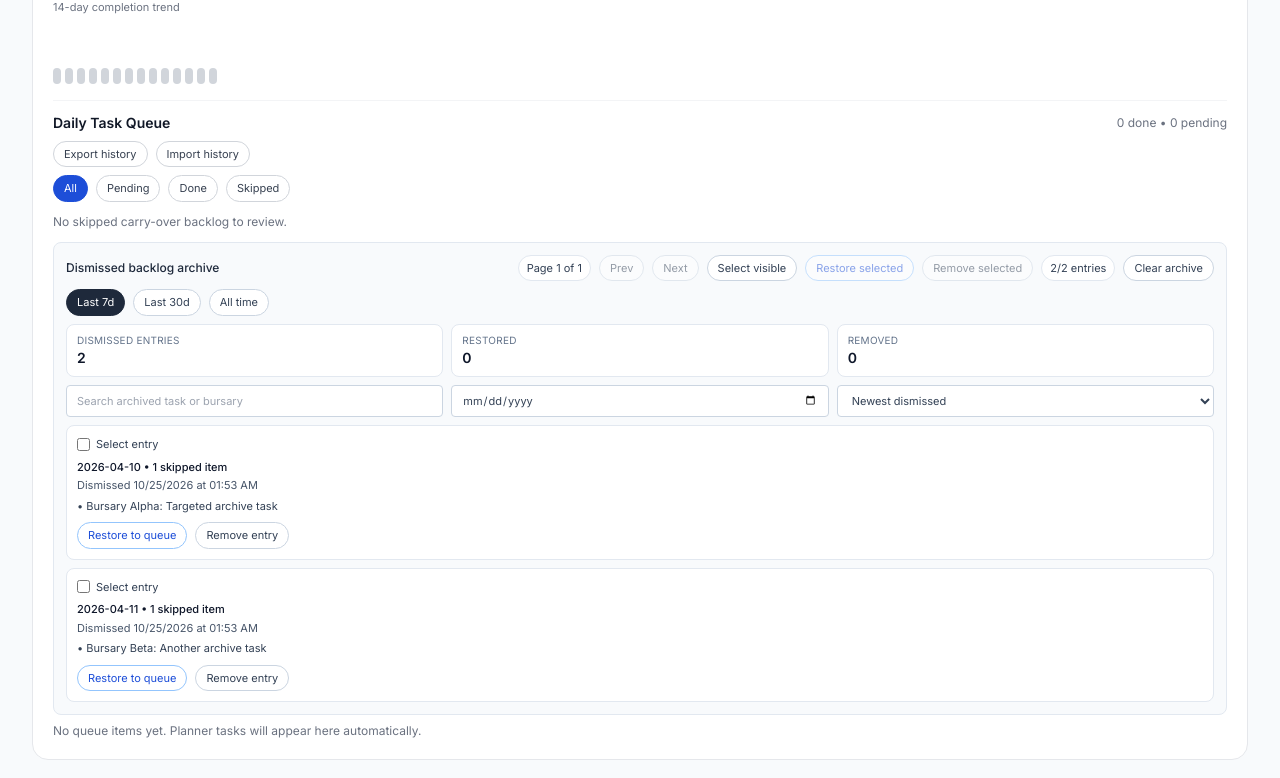
Test case: ApplicationTracker phase 2.5 interactions › filters dismissed backlog archive by task text and source date
The width and height of the screenshot is (1280, 778).
(page scrolled)
Step 1. Type "Targeted" into the field named "Archive search" → (255, 401), box [66,384,443,417]
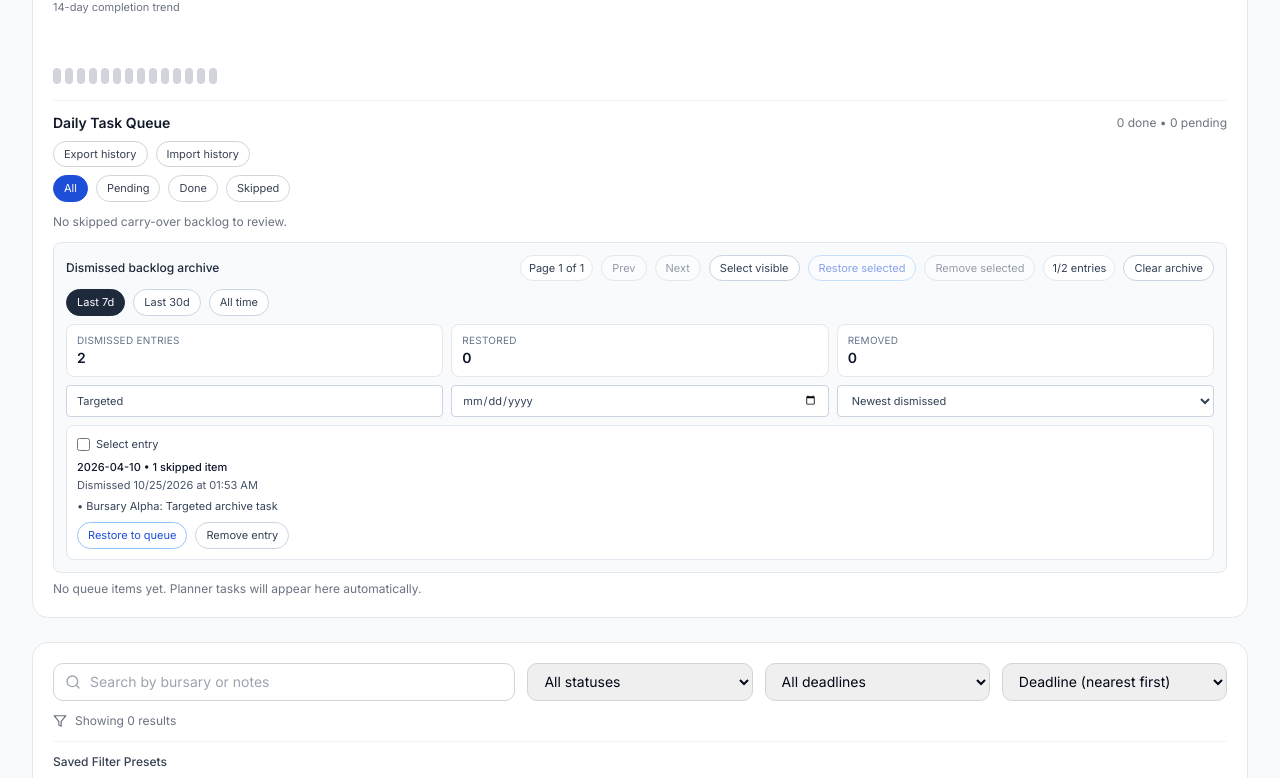
Expected: the list item "• Bursary Alpha: Targeted archive task" is shown, [77,498,278,512]
Expected: the list item "Another archive task" is gone
Step 2. Clear the field named "Archive search" → (255, 401), box [66,384,443,417]
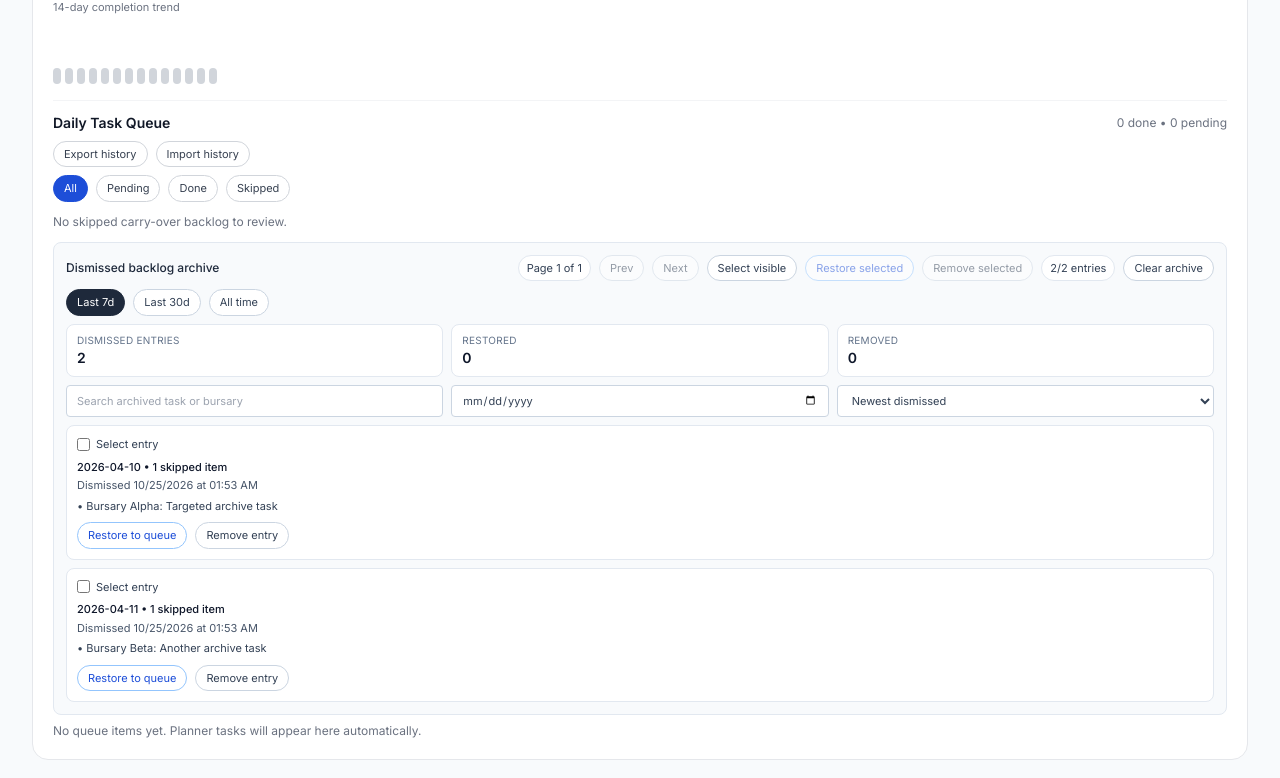
Step 3. Type "2026-04-11" into the date field named "Archive source date" → (640, 401), box [451,384,829,417]
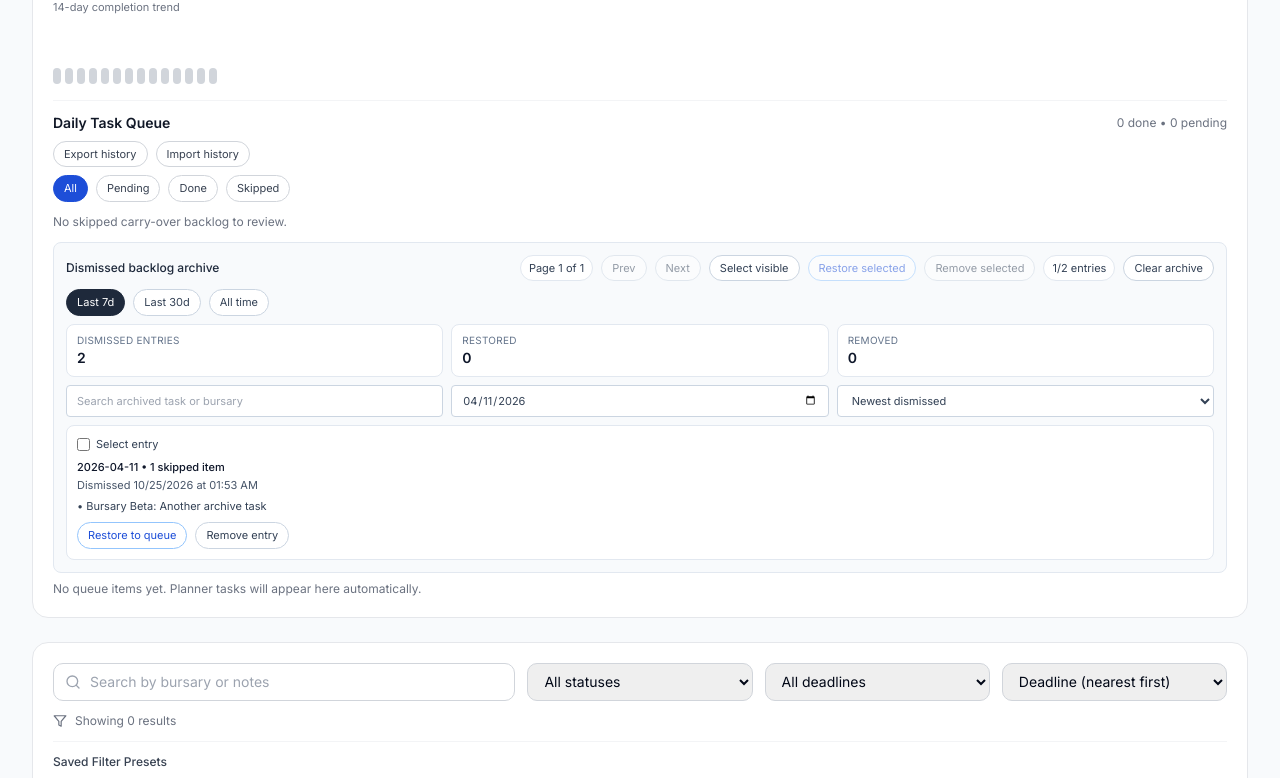
Expected: the list item "• Bursary Beta: Another archive task" is shown, [77,498,267,512]
Expected: the list item "Targeted archive task" is gone
